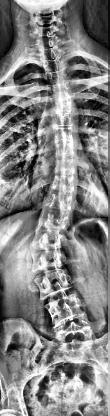Vertebrae: (35, 272, 71, 294), (48, 298, 82, 320), (31, 250, 65, 268), (32, 228, 62, 247), (38, 212, 68, 228), (48, 187, 74, 201), (44, 200, 71, 212), (52, 126, 75, 140), (54, 150, 77, 164), (43, 60, 69, 72), (54, 164, 78, 176), (51, 176, 75, 188), (50, 82, 73, 94), (49, 71, 71, 83), (52, 105, 74, 117), (51, 116, 73, 128), (54, 140, 76, 152), (54, 93, 74, 105)
